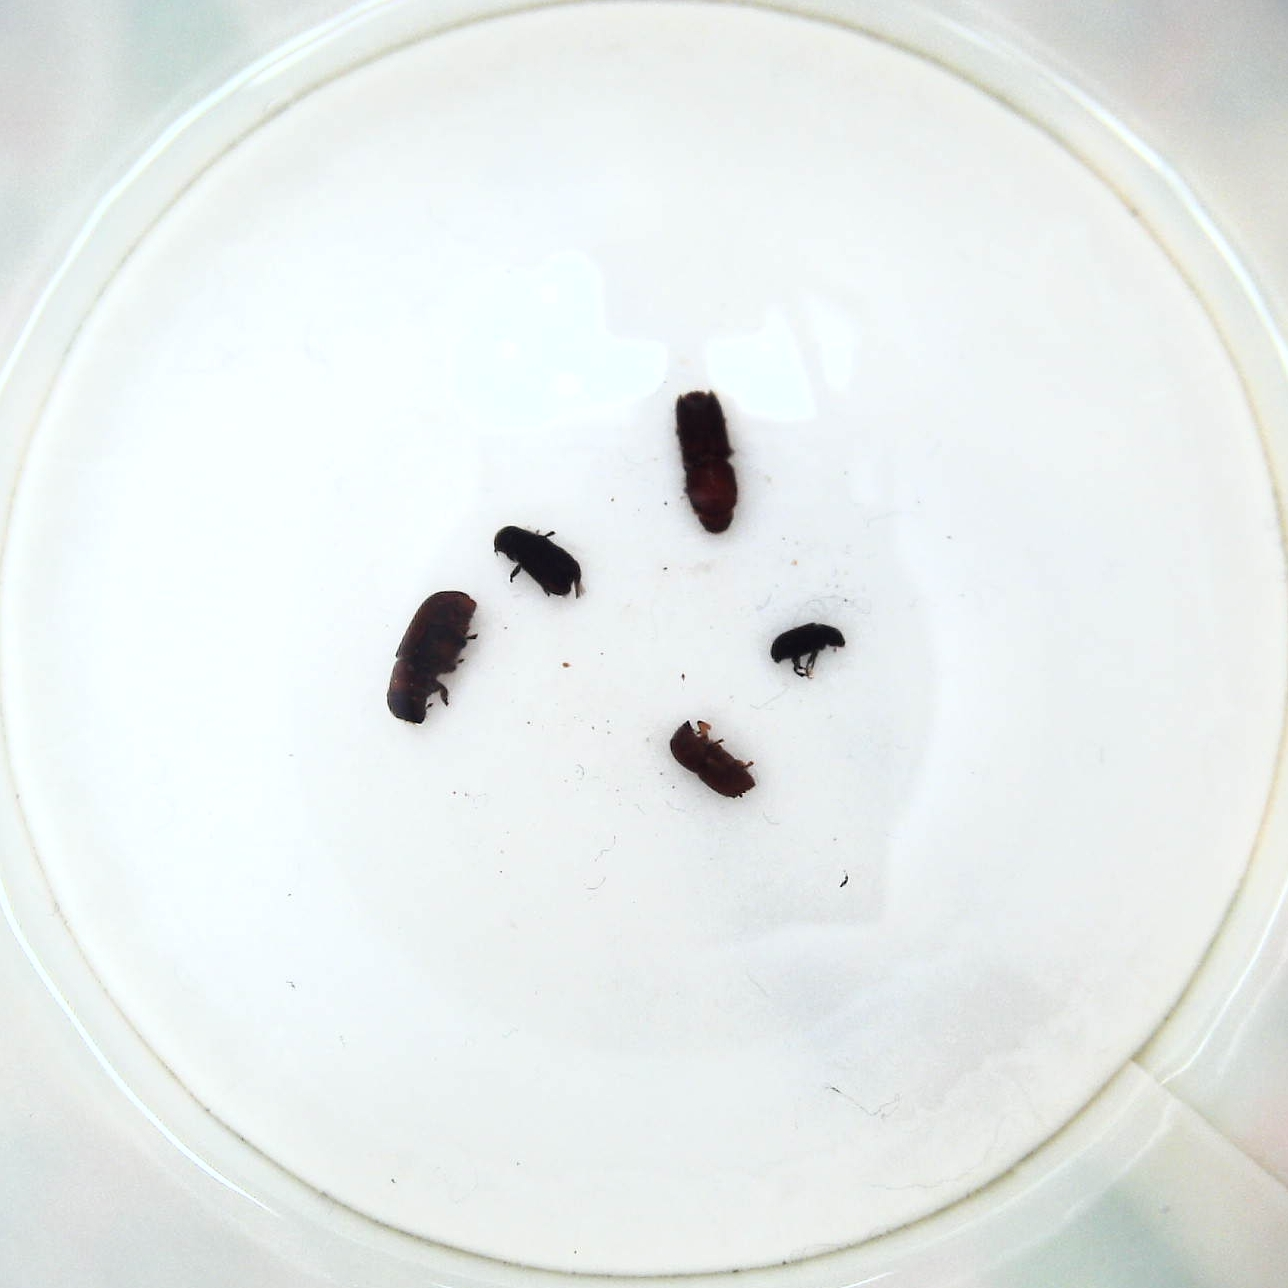Boerner: (668, 379, 747, 540)
Leconte: (379, 587, 484, 731)
armandi: (489, 521, 589, 604)
coleoptera: (769, 619, 850, 684)
linnaeus: (664, 711, 757, 801)
